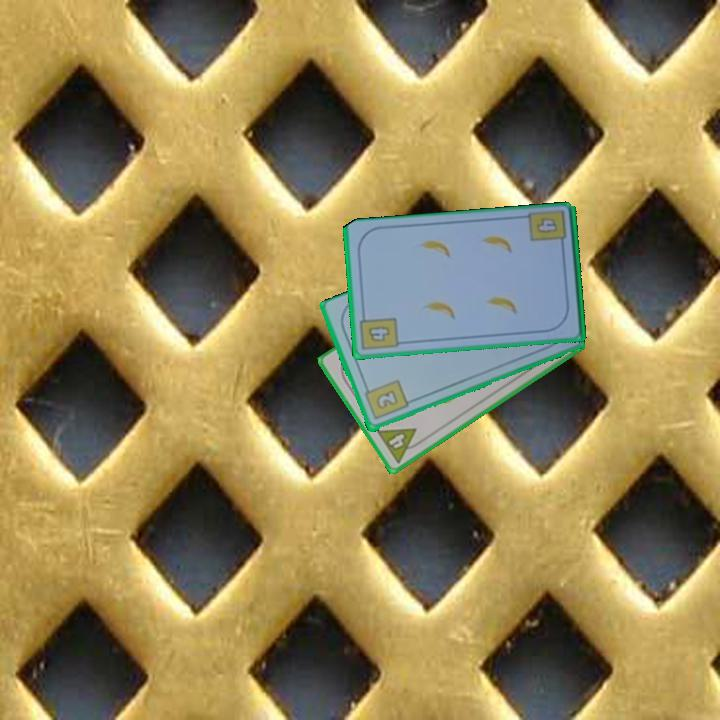2b: (361, 377, 411, 423)
4b: (357, 310, 401, 353), (532, 214, 560, 237)
4p: (373, 424, 427, 466)
